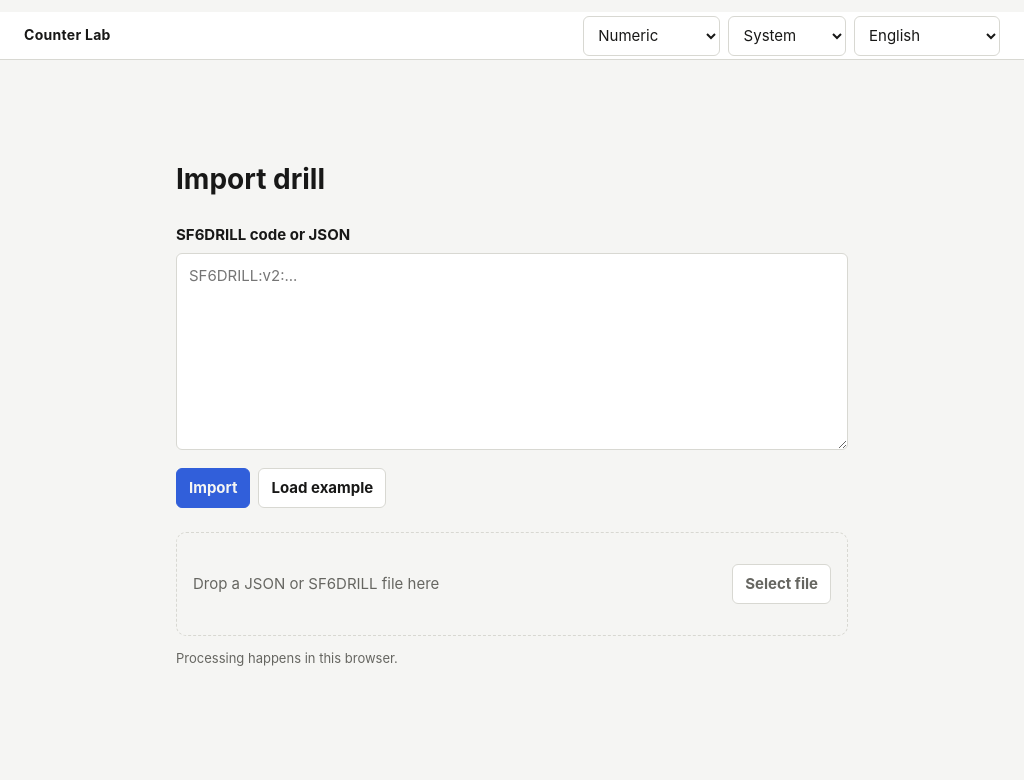
it: App › shows an import error without leaving the screen
Type "not a drill" into the text box labelled "SF6DRILL code or JSON" at (512, 352), box x1=176 y1=254 x2=848 y2=450
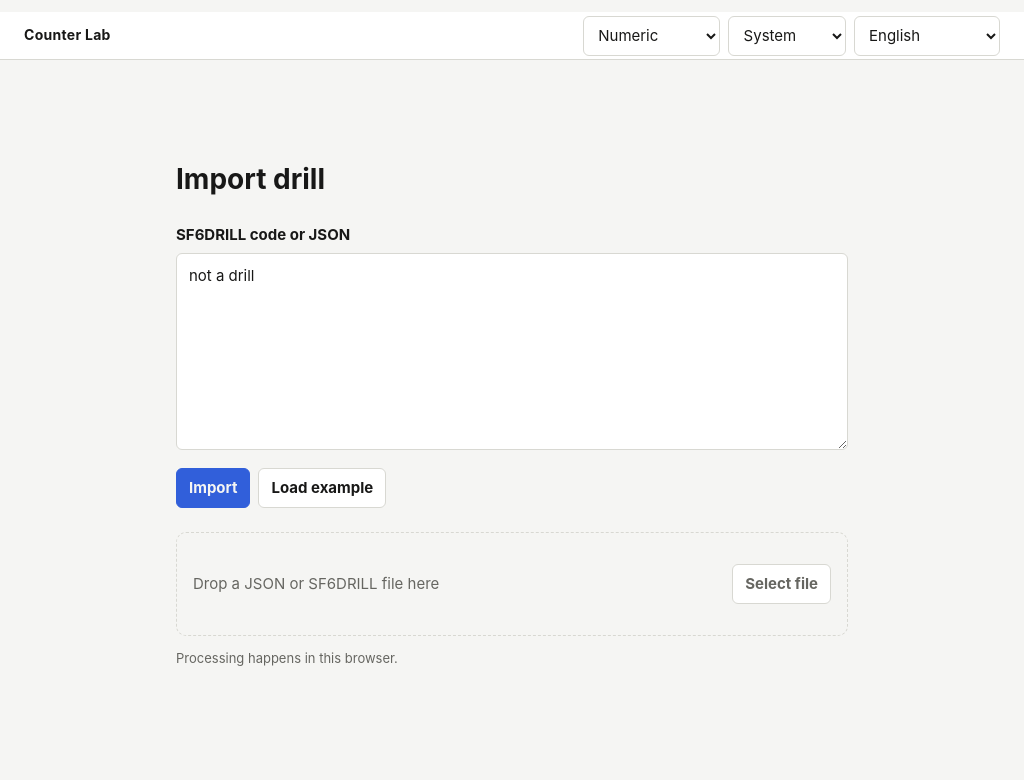
Click the button "Import" at (213, 488), box x1=176 y1=468 x2=250 y2=508
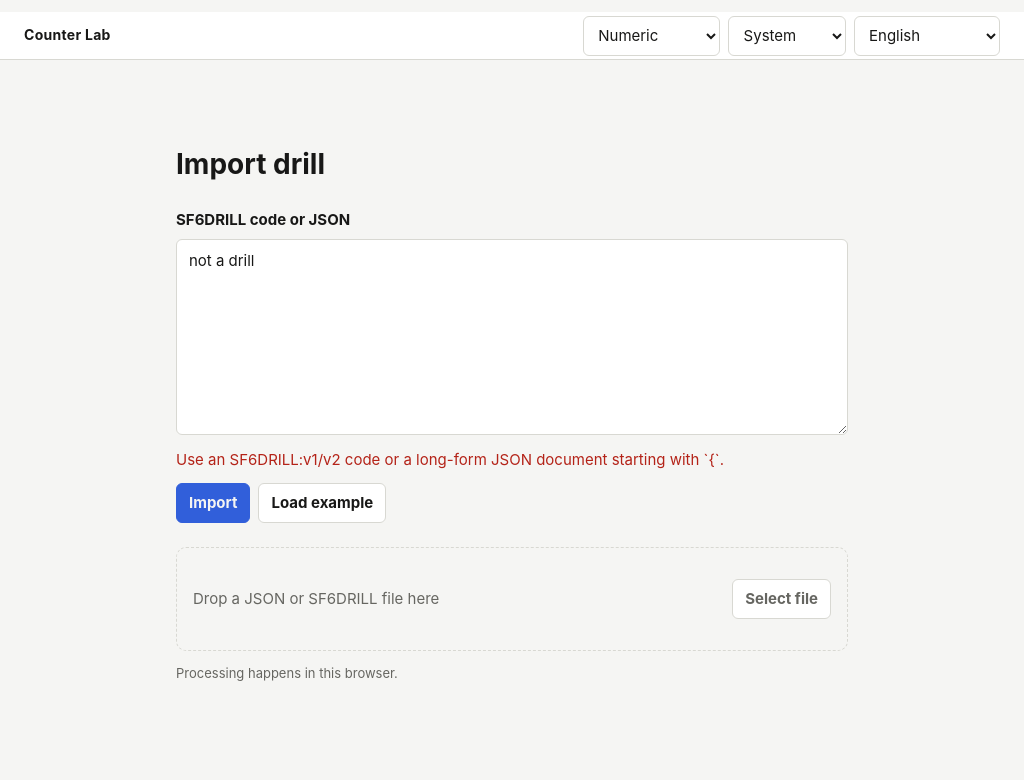
Expected: the message shows "SF6DRILL:v1/v2", x1=176 y1=450 x2=724 y2=469
